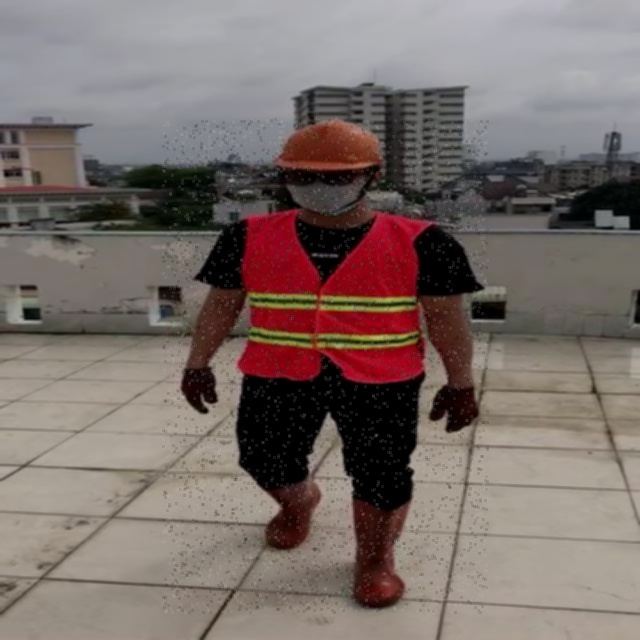boots: (228, 502, 292, 607), (318, 474, 377, 550)
gloves: (144, 361, 210, 458), (420, 349, 465, 437)
helmet: (253, 118, 367, 168)
vest: (214, 212, 404, 382)
